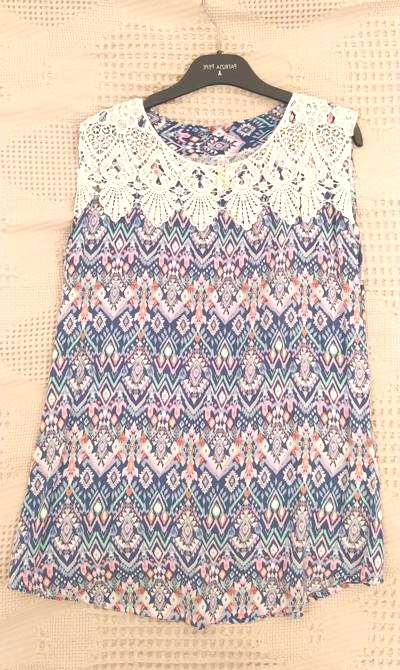Dress: (0, 88, 363, 629)
